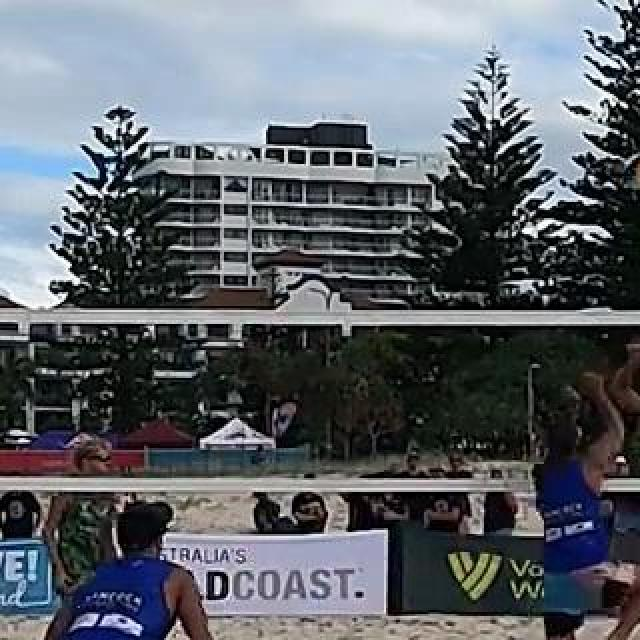volleyball: (622, 150, 640, 192)
